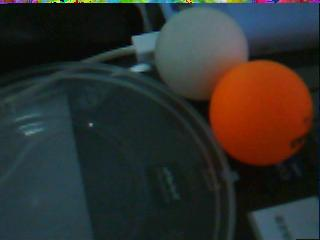oball: (208, 60, 312, 168)
